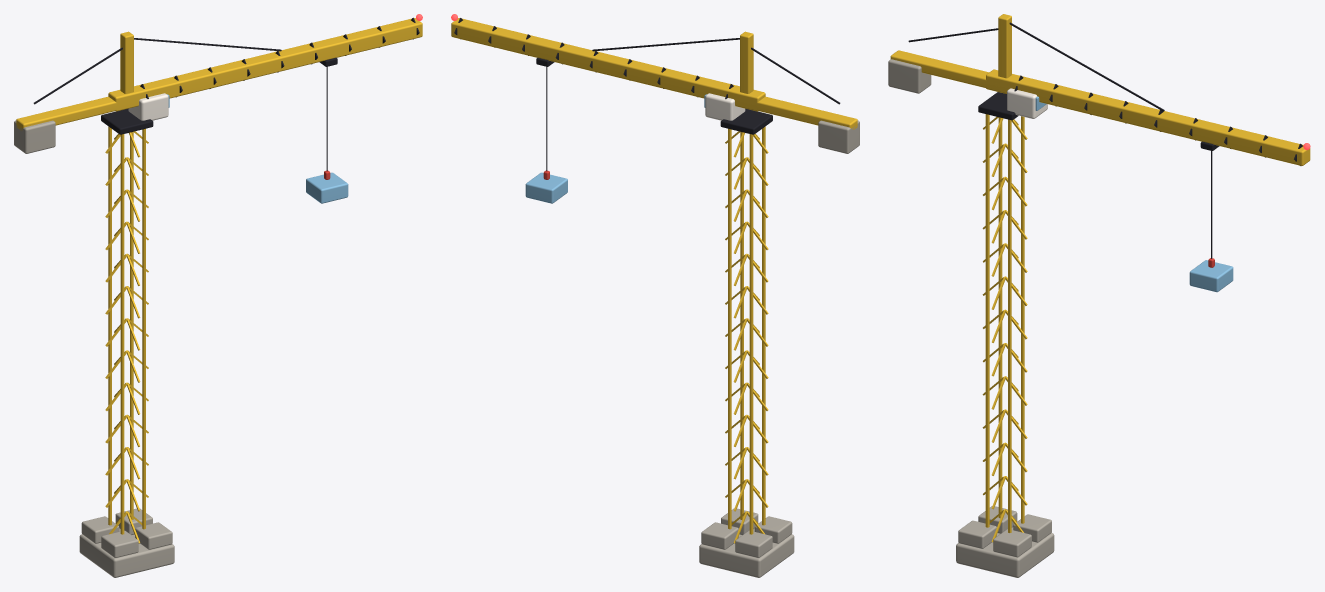
File: crane.glb
3 renders of one model, left to right at view 1: azimuth 30°, elevation 25°; view 2: azimuth 150°, elevation 25°; view 3: azimuth 330°, elevation 25°, orthographic. The views are drawn at different scales.
Visible parts, largest first — view 1: crane, jib; view 2: crane, jib; view 3: crane, jib.
Boxes of the visible parts, left/top/right/bottom form: crane: left=79, top=126, right=174, bottom=577; jib: left=14, top=14, right=422, bottom=203; crane: left=699, top=126, right=794, bottom=577; jib: left=451, top=14, right=859, bottom=203; crane: left=956, top=114, right=1054, bottom=577; jib: left=888, top=14, right=1310, bottom=292.
Size of the model in its own units: 26.2 by 32.6 by 4.
Materials: 1 (1 with a texture image).
